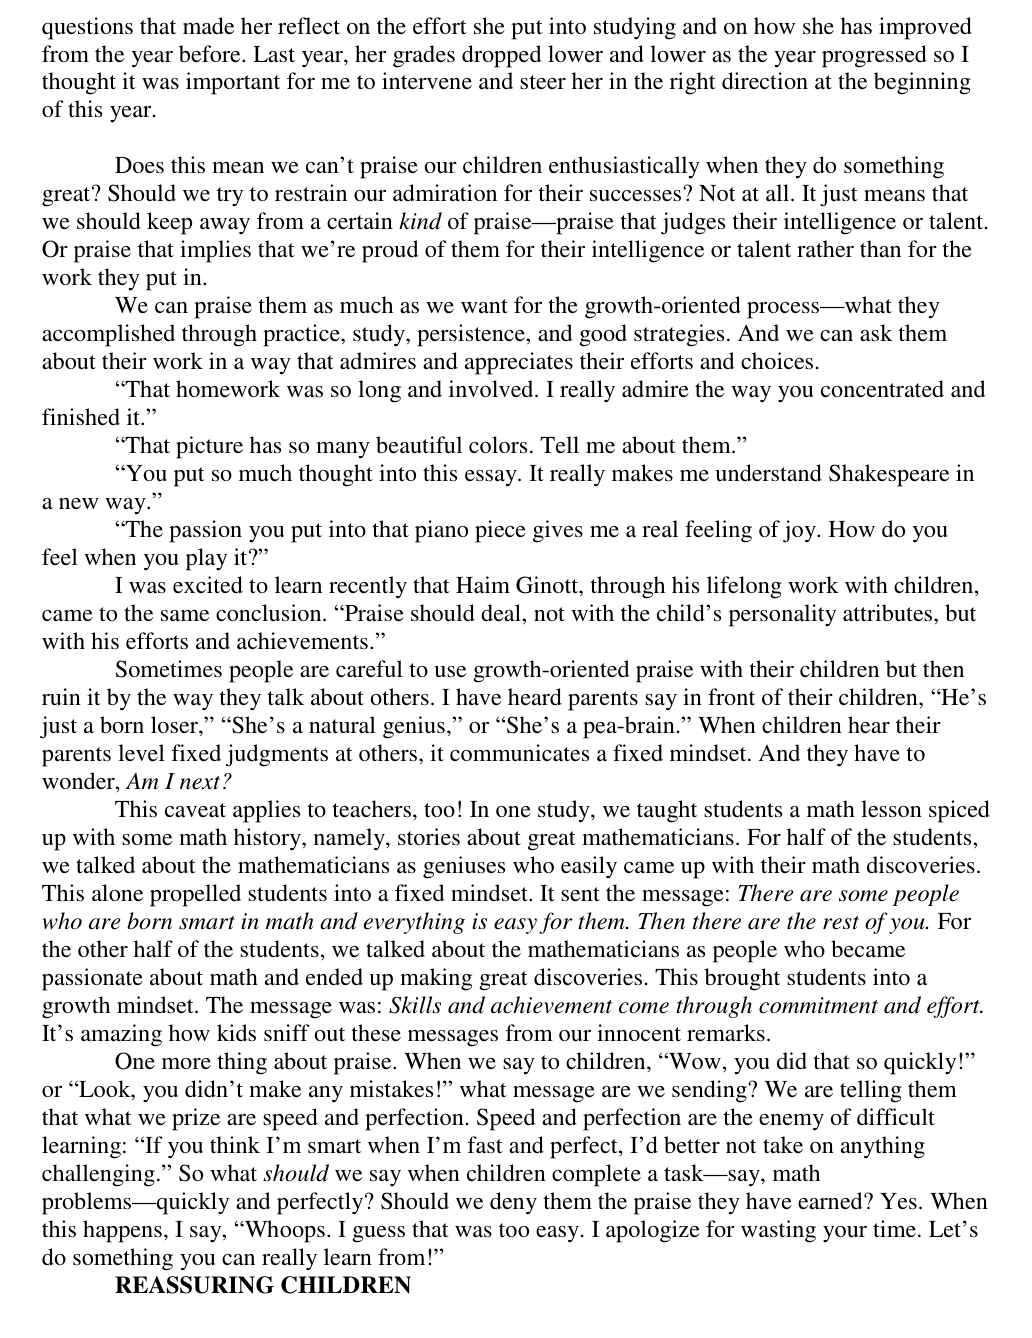latin: (29, 292, 988, 568), (29, 793, 992, 1045), (37, 1045, 999, 1271), (34, 568, 996, 793), (36, 157, 991, 292), (37, 16, 977, 128), (108, 1271, 414, 1295)
